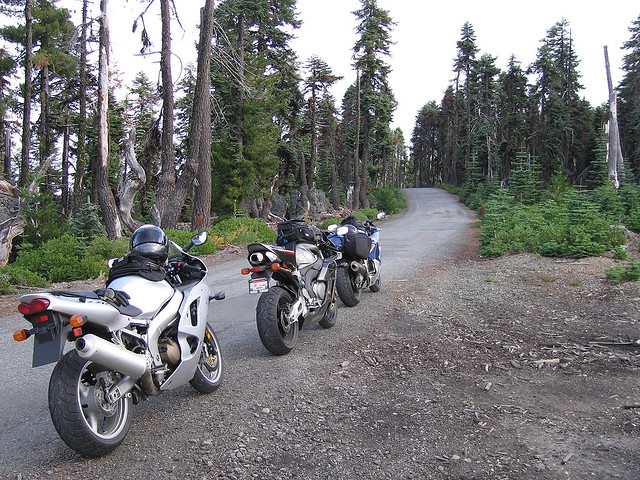non-vehicle: (4, 198, 230, 456), (239, 207, 349, 357), (340, 218, 383, 304)
